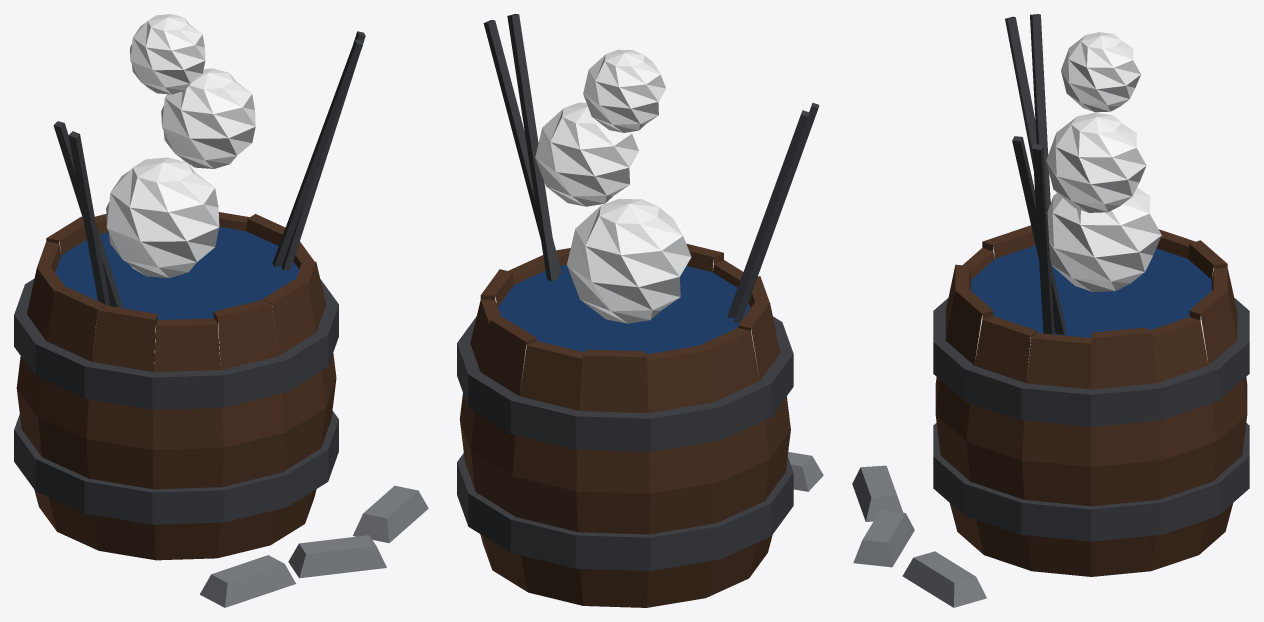
The model's file is quench-barrel.glb.
3 renders of one model, left to right at view 1: azimuth 30°, elevation 25°; view 2: azimuth 150°, elevation 25°; view 3: azimuth 270°, elevation 25°, orthographic. The views are drawn at different scales.
Parts seen in each view (by area): view 1: Barrel, Iron, Steam, Water, Bars; view 2: Barrel, Iron, Steam, Water, Bars; view 3: Barrel, Iron, Steam, Water, Bars.
Boxes of the visible parts, <box> form: Barrel: <box>16,212,336,560</box>; Iron: <box>14,31,365,524</box>; Steam: <box>106,14,255,277</box>; Water: <box>55,227,299,320</box>; Bars: <box>200,485,428,607</box>; Barrel: <box>459,243,790,607</box>; Iron: <box>457,14,819,570</box>; Steam: <box>535,49,691,323</box>; Water: <box>498,265,750,354</box>; Bars: <box>787,452,823,491</box>; Barrel: <box>935,225,1247,576</box>; Iron: <box>933,14,1249,541</box>; Steam: <box>1046,32,1161,291</box>; Water: <box>971,245,1211,337</box>; Bars: <box>852,465,986,607</box>.
Size of the model in its own units: 3.79 by 5.25 by 3.93.
